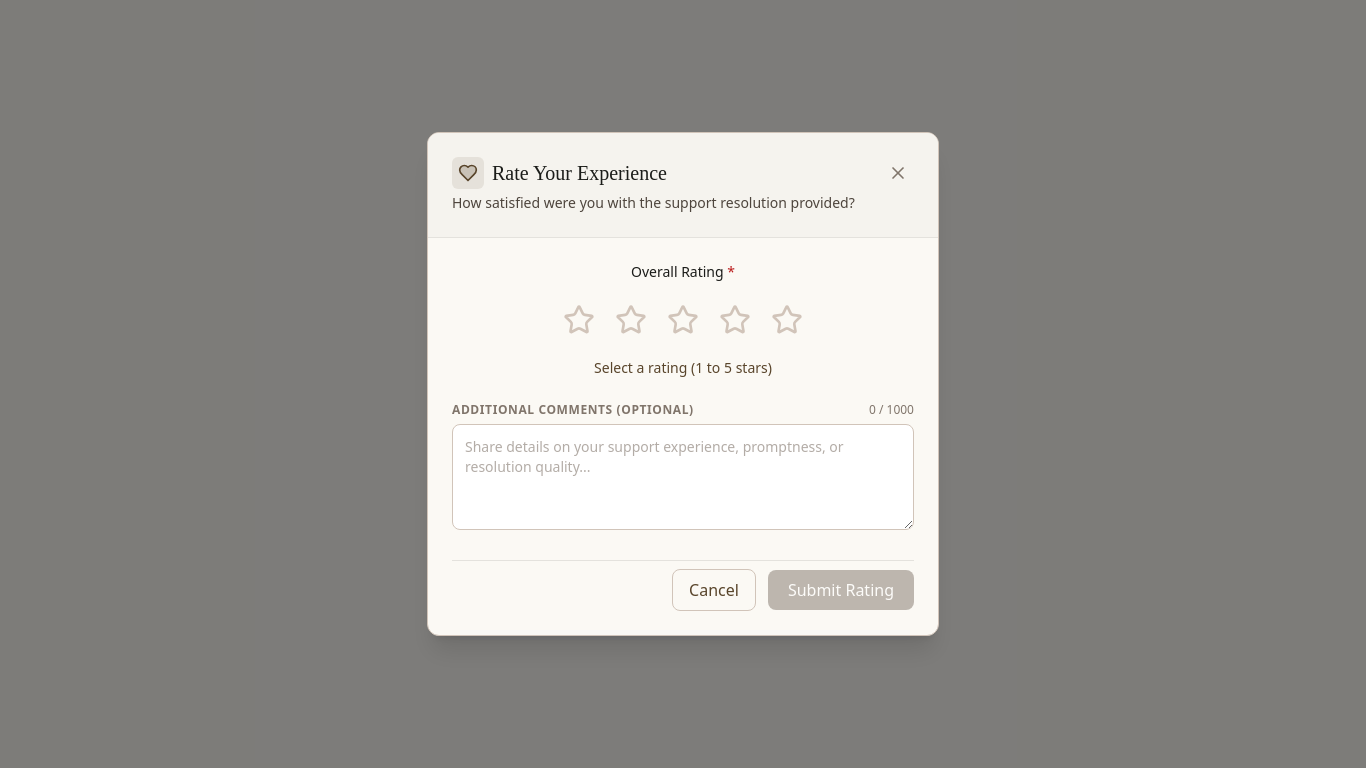
CSATRatingModal Component [FR-9, NFR-2, NFR-4] › updates score selection and active score label on star button click
Click the button with test id "csat-star-button-4" at (735, 320), box x1=713 y1=298 x2=757 y2=342
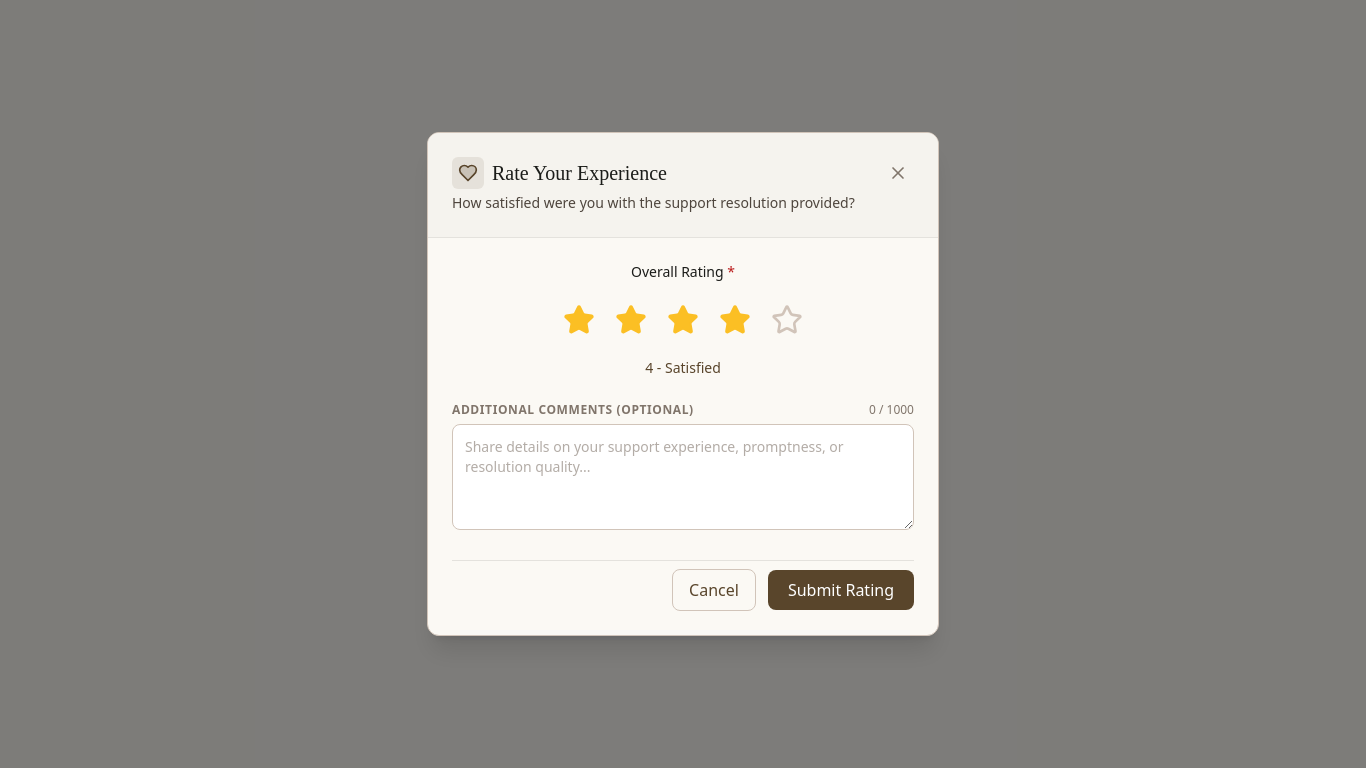
Expected: the text with test id "csat-score-label" reads "4 - Satisfied", x1=645 y1=358 x2=721 y2=377
Expected: the button with test id "csat-submit-btn" is enabled, x1=768 y1=570 x2=914 y2=610
